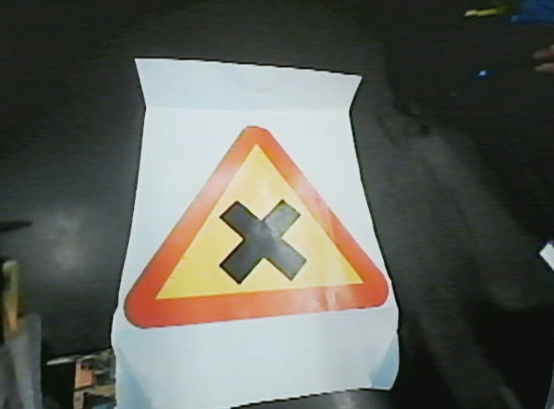junction: (109, 111, 399, 342)
